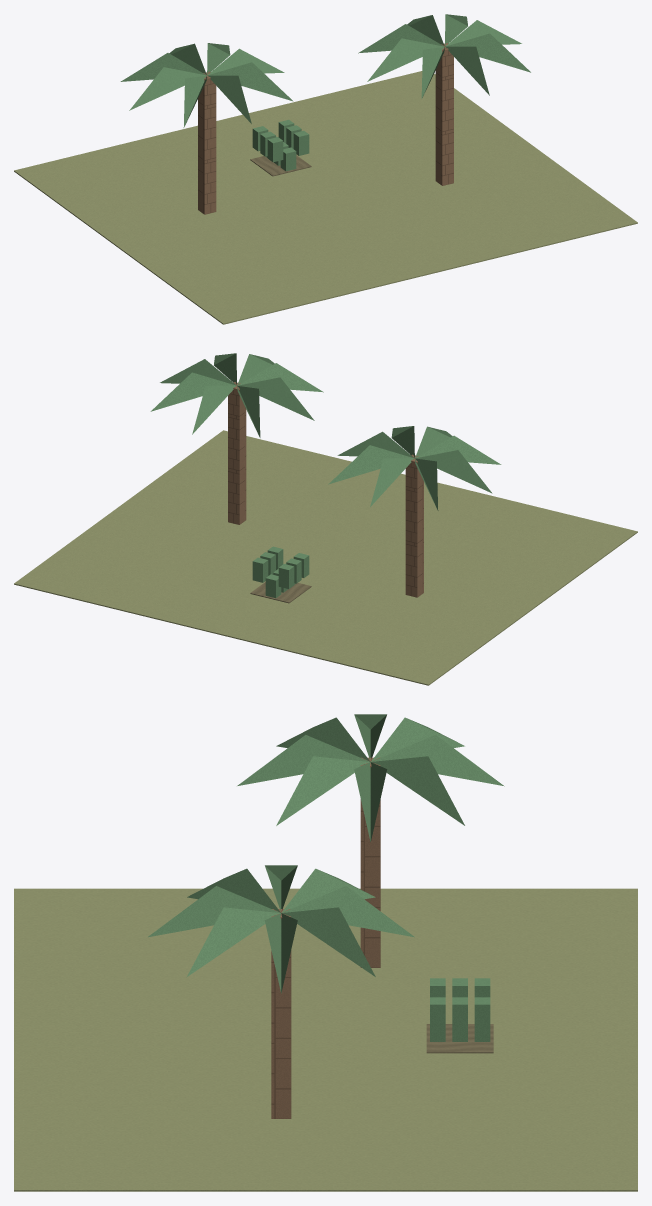
Rendered from plot-tropical.glb.
3 renders of one model, top to bottom at view 1: azimuth 30°, elevation 25°; view 2: azimuth 150°, elevation 25°; view 3: azimuth 270°, elevation 25°, orthographic. The views are drawn at different scales.
Bounding box in the file's own units: 15.96 × 5.52 × 13.96.
4 materials, 4 textured.
